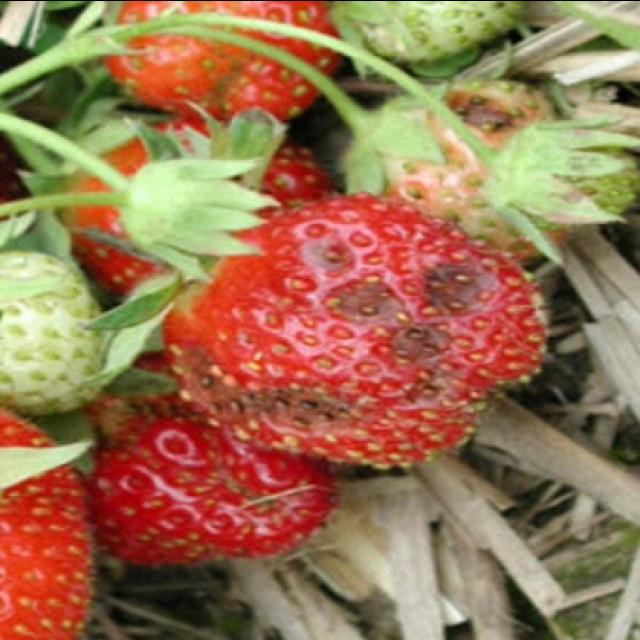Anthracnose Fruit Rot: (171, 232, 494, 443), (388, 76, 560, 259)
